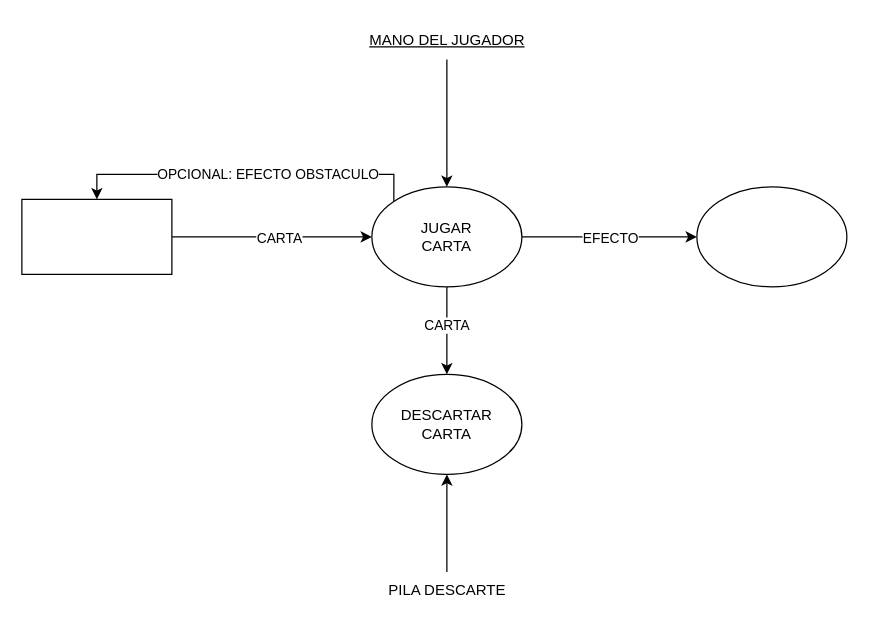
The diagram is 869 pixels wide and 630 high, and some of its shapes have lost their labels. The centre of each missing label's shape, as x and y in pixels:
"APLICAR EFECTO" goes at point 771,236.
"JUGADOR" goes at point 96,236.
